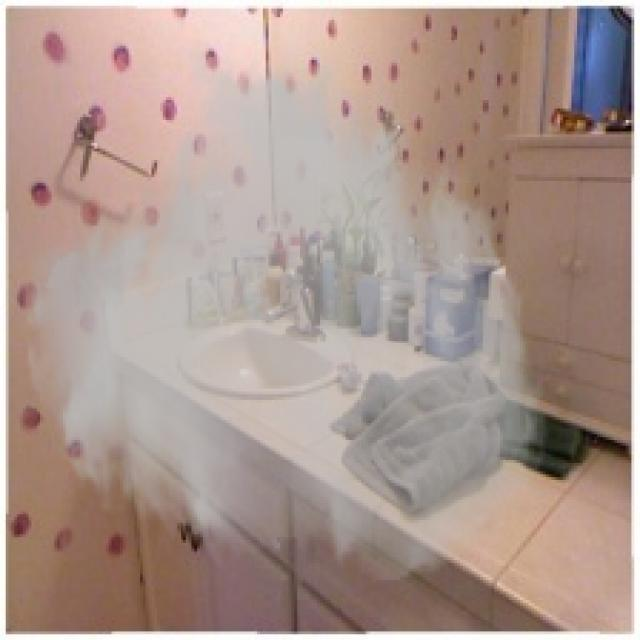Smoke: (19, 37, 552, 586)
